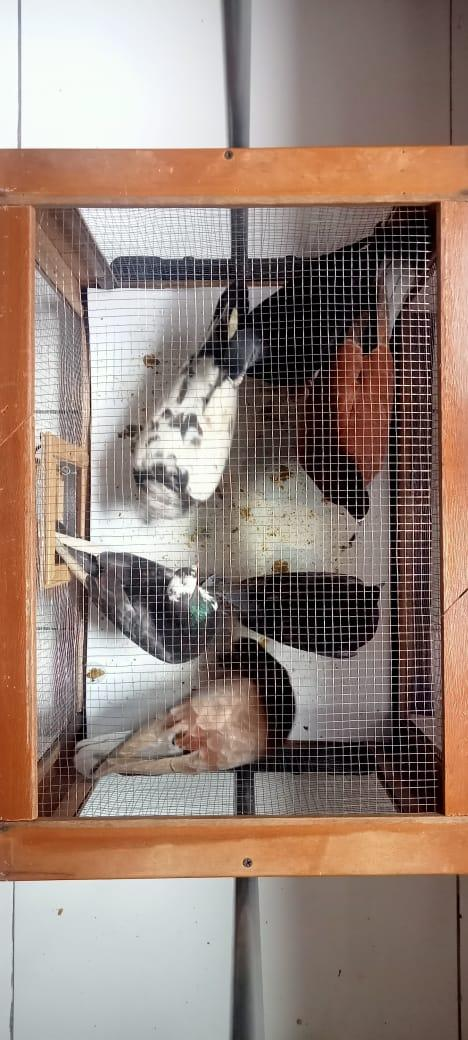Merpati: (296, 258, 420, 526), (74, 638, 296, 781), (132, 280, 248, 523), (223, 220, 385, 390), (55, 532, 221, 666), (199, 573, 386, 657)
